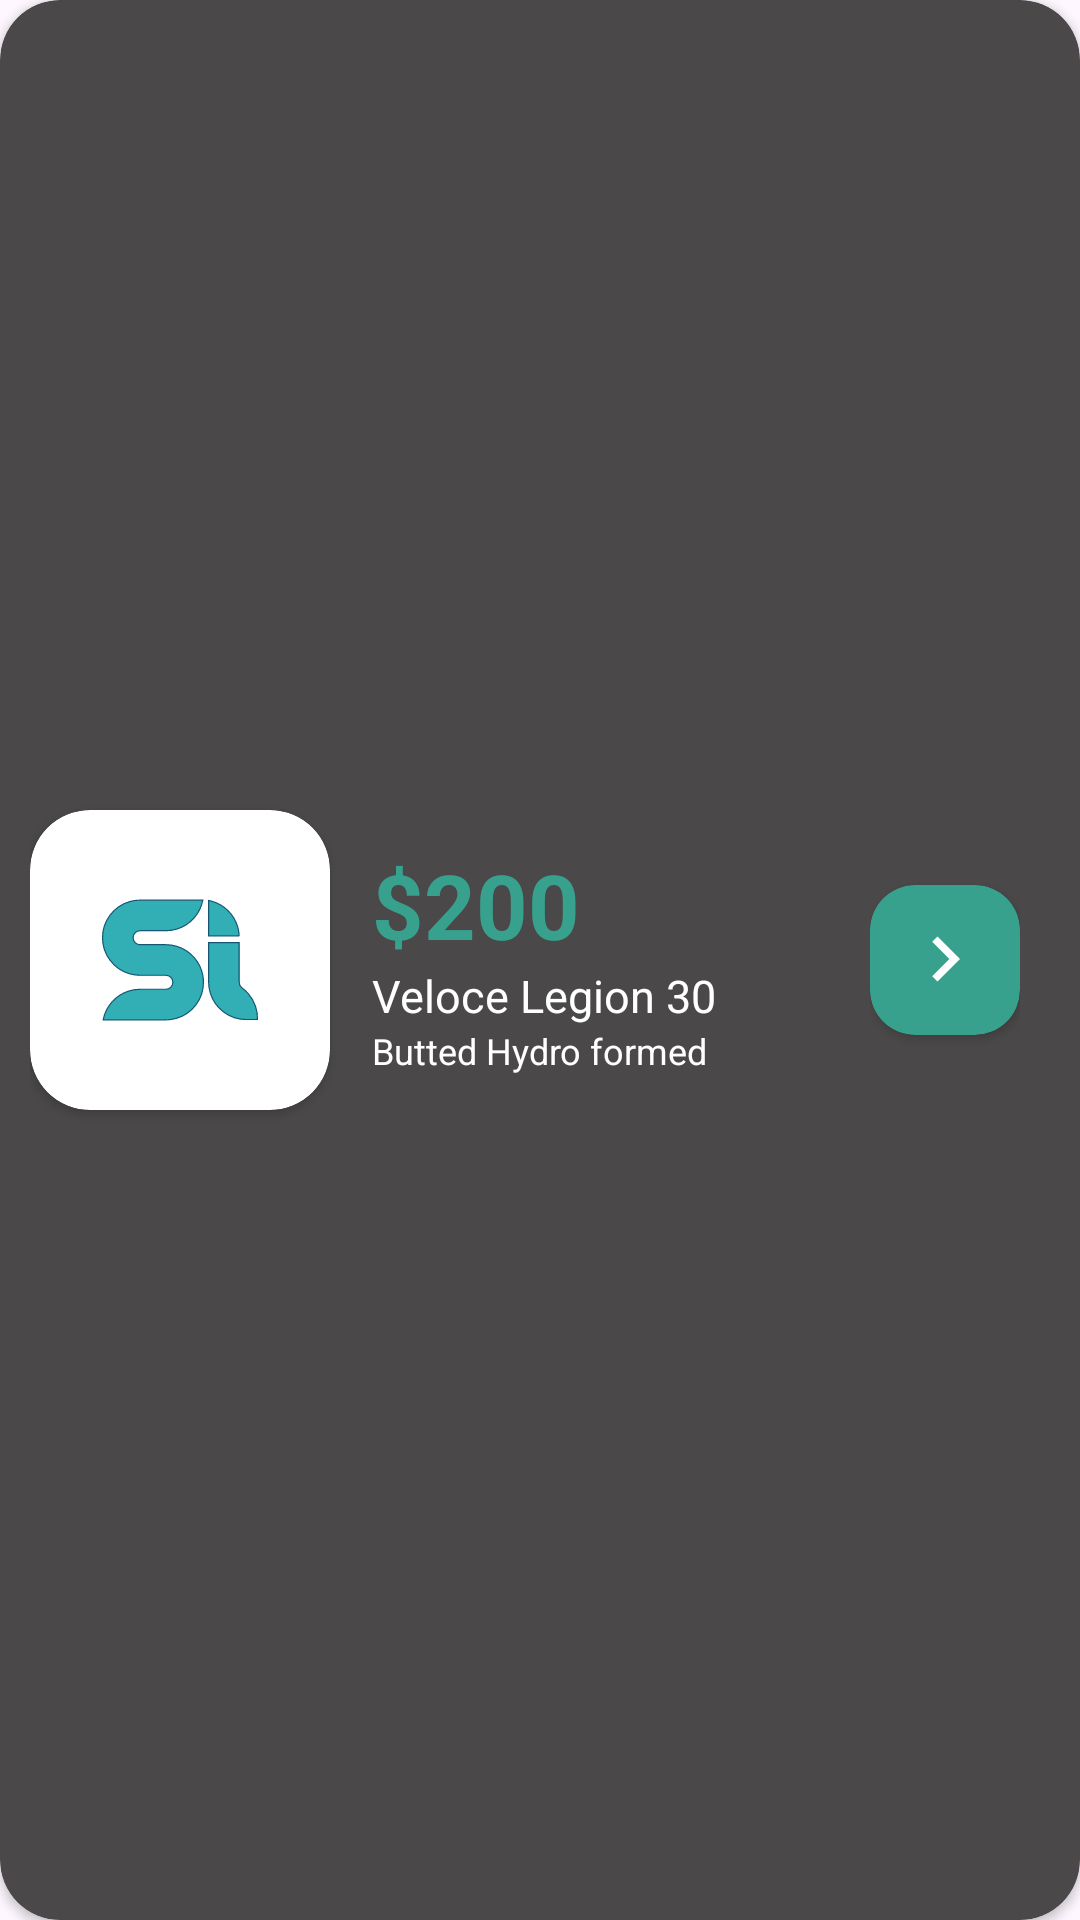

Icons on this 1080×1920 Android screen, each with its box as BBox(x1, y1, x2, y2):
arrow right: BBox(870, 885, 1020, 1035)
